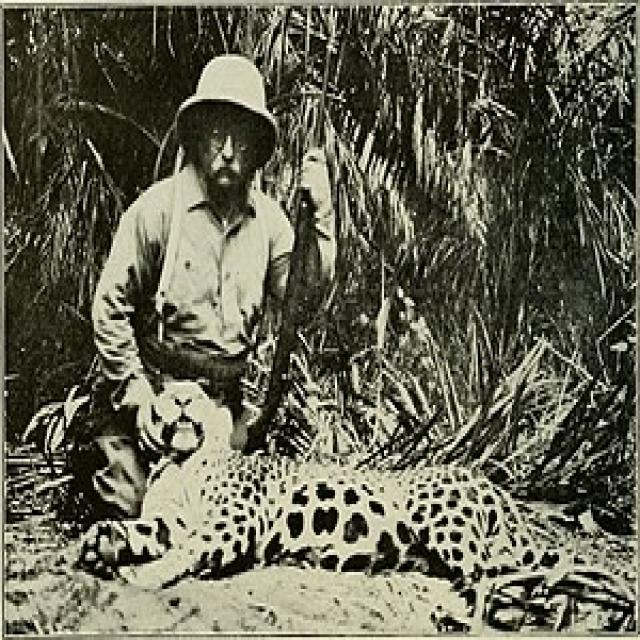Jaguar: (139, 377, 544, 603)
